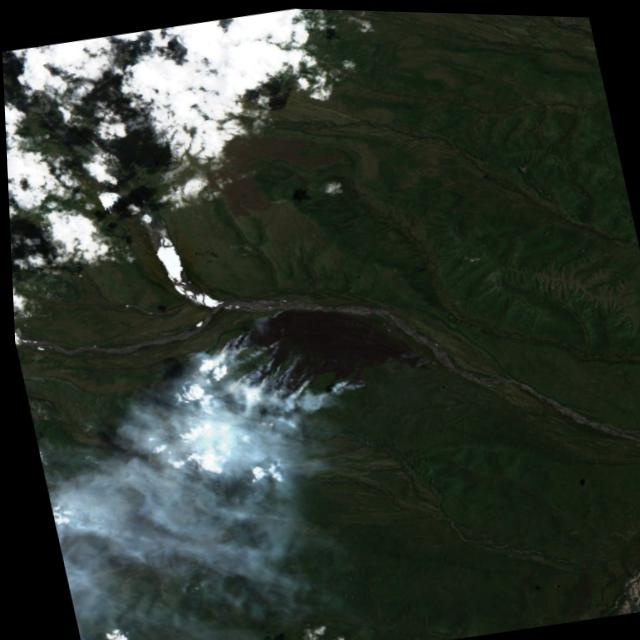fire: (183, 288, 380, 436)
